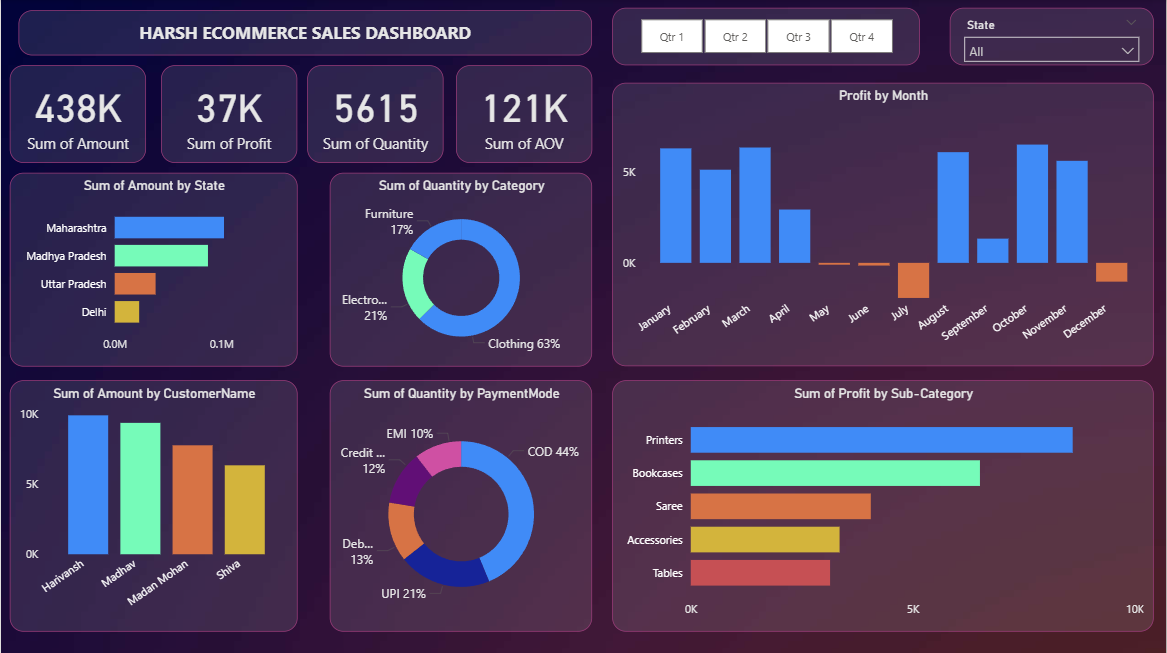

The dashboard page shown, as its layout file describes it:
{"tool":"powerbi","page":{"name":"Page 1","canvas":[1280,720],"ordinal":0},"visuals":[{"type":"columnChart","title":"Profit by Month","fields":{"Category":["Orders.Order Date.Variation.Date Hierarchy.Month"],"Y":["Sum(Details.Profit)"]},"box":[671,91.9,594.2,311.5],"z":0},{"type":"barChart","fields":{"Category":["Details.Sub-Category"],"Y":["Sum(Details.Profit)"]},"box":[671,418.5,594.2,275.8],"z":1000},{"type":"donutChart","fields":{"Category":["Details.Category"],"Y":["Sum(Details.Quantity)"]},"box":[360.9,190.7,288.2,212.7],"z":2000},{"type":"donutChart","fields":{"Y":["Sum(Details.Quantity)"],"Category":["Details.PaymentMode"]},"box":[360.9,418.5,288.2,275.8],"z":3000},{"type":"card","fields":{"Values":["Sum(Details.Amount)"]},"box":[9.6,72.7,149.6,107],"z":4000},{"type":"card","fields":{"Values":["Sum(Details.Profit)"]},"box":[175.6,72.7,149.6,107],"z":5000},{"type":"card","fields":{"Values":["Sum(Details.Quantity)"]},"box":[336.2,72.7,149.6,107],"z":6000},{"type":"card","fields":{"Values":["Sum(Details.AOV)"]},"box":[499.5,72.7,149.6,107],"z":7000},{"type":"barChart","fields":{"Category":["Orders.State"],"Y":["Sum(Details.Amount)"]},"box":[9.6,190.7,326.6,212.7],"z":8000},{"type":"columnChart","fields":{"Category":["Orders.CustomerName"],"Y":["Sum(Details.Amount)"]},"box":[10,419,327,276],"z":9000},{"type":"textbox","box":[19.2,12.3,629.8,49.4],"z":10000},{"type":"slicer","fields":{"Values":["Orders.Order Date.Variation.Date Hierarchy.Quarter"]},"box":[671,9.6,337.6,63.1],"z":11000},{"type":"slicer","fields":{"Values":["Orders.State"]},"box":[1041.5,9.6,223.7,63.1],"z":12000}]}

Visuals, with their boxes in screenshot pixels (x1, y1, x2, y2), scaled from the page's 1280x720 canvas onto the 1167x653 screenshot:
"Profit by Month" columnChart: rect(612, 83, 1154, 366)
barChart - Details.Sub-Category x Sum(Details.Profit): rect(612, 380, 1154, 630)
donutChart - Details.Category x Sum(Details.Quantity): rect(329, 173, 592, 366)
donutChart - Sum(Details.Quantity) x Details.PaymentMode: rect(329, 380, 592, 630)
card - Sum(Details.Amount): rect(9, 66, 145, 163)
card - Sum(Details.Profit): rect(160, 66, 296, 163)
card - Sum(Details.Quantity): rect(307, 66, 443, 163)
card - Sum(Details.AOV): rect(455, 66, 592, 163)
barChart - Orders.State x Sum(Details.Amount): rect(9, 173, 307, 366)
columnChart - Orders.CustomerName x Sum(Details.Amount): rect(9, 380, 307, 630)
textbox: rect(18, 11, 592, 56)
slicer - Orders.Order Date.Variation.Date Hierarchy.Quarter: rect(612, 9, 920, 66)
slicer - Orders.State: rect(950, 9, 1154, 66)
